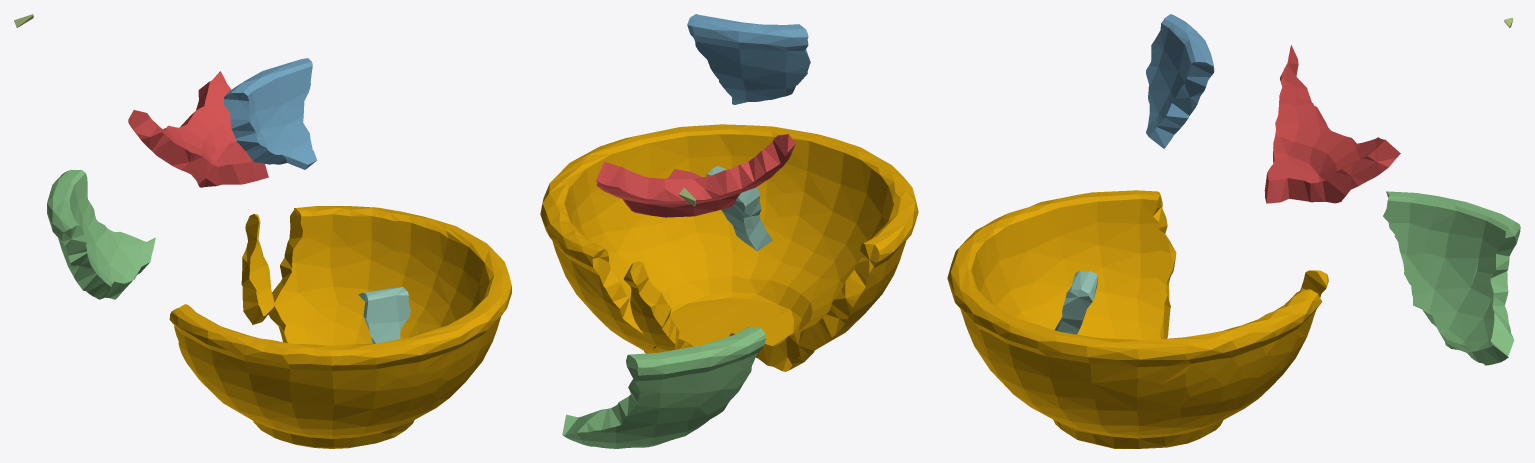
The model's file is fractured_25_6pcs_transformed.glb.
3 views of the same model, side by side, from view 1: azimuth 30°, elevation 25°; view 2: azimuth 150°, elevation 25°; view 3: azimuth 270°, elevation 25° (orthographic). The views are drawn at different scales.
Parts seen in each view (by area): view 1: piece_0.obj, piece_3.obj, piece_2.obj, piece_1.obj, piece_4.obj; view 2: piece_0.obj, piece_3.obj, piece_2.obj, piece_1.obj, piece_4.obj; view 3: piece_0.obj, piece_3.obj, piece_1.obj, piece_2.obj, piece_4.obj.
Part boxes in pixels (bbox=[...]): piece_0.obj: bbox=[169, 206, 511, 448]; piece_3.obj: bbox=[47, 170, 155, 299]; piece_2.obj: bbox=[223, 58, 317, 169]; piece_1.obj: bbox=[128, 71, 268, 187]; piece_4.obj: bbox=[358, 287, 410, 343]; piece_0.obj: bbox=[540, 124, 918, 371]; piece_3.obj: bbox=[562, 326, 765, 448]; piece_2.obj: bbox=[687, 14, 810, 104]; piece_1.obj: bbox=[596, 134, 795, 217]; piece_4.obj: bbox=[706, 166, 772, 251]; piece_0.obj: bbox=[947, 190, 1328, 448]; piece_3.obj: bbox=[1383, 191, 1520, 365]; piece_1.obj: bbox=[1264, 45, 1400, 203]; piece_2.obj: bbox=[1146, 14, 1214, 148]; piece_4.obj: bbox=[1054, 271, 1097, 334].
Bounding box in the file's own units: 1 × 1.02 × 1.5.
